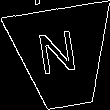N_S: (40, 30, 85, 85)
